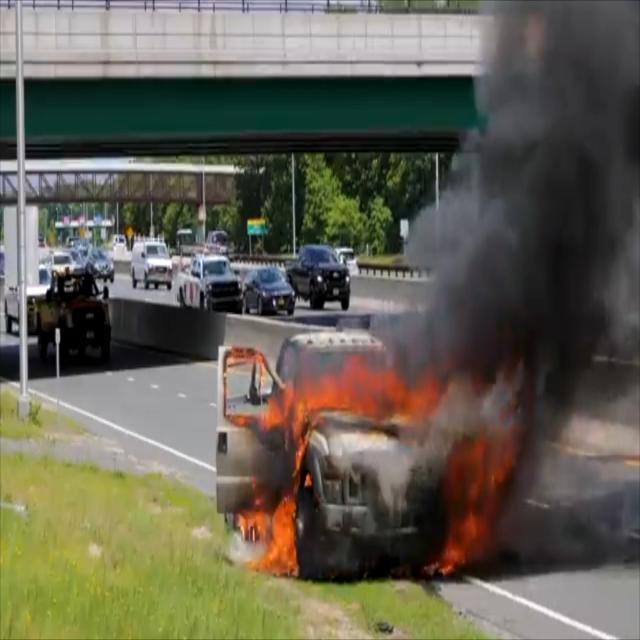fire: (212, 334, 520, 593)
